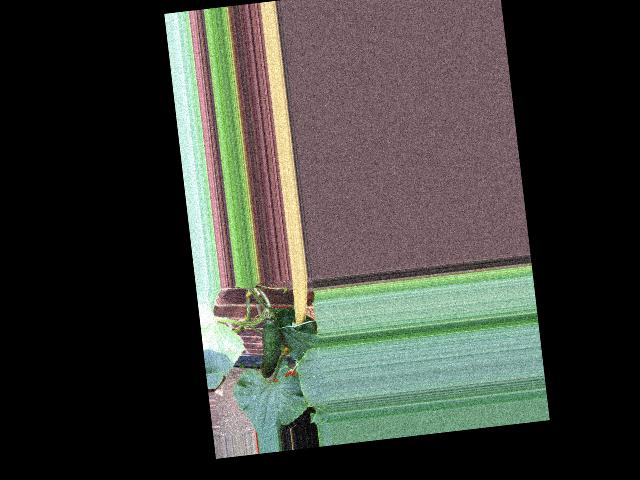cucumber: (254, 316, 284, 378)
